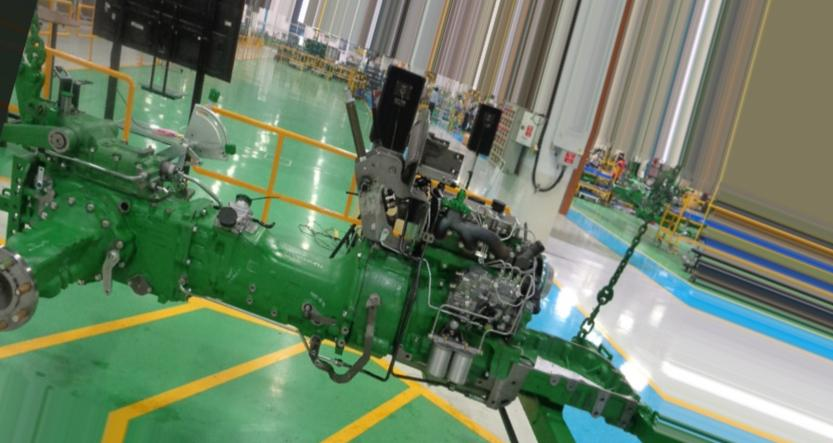engine: (0, 58, 644, 429)
